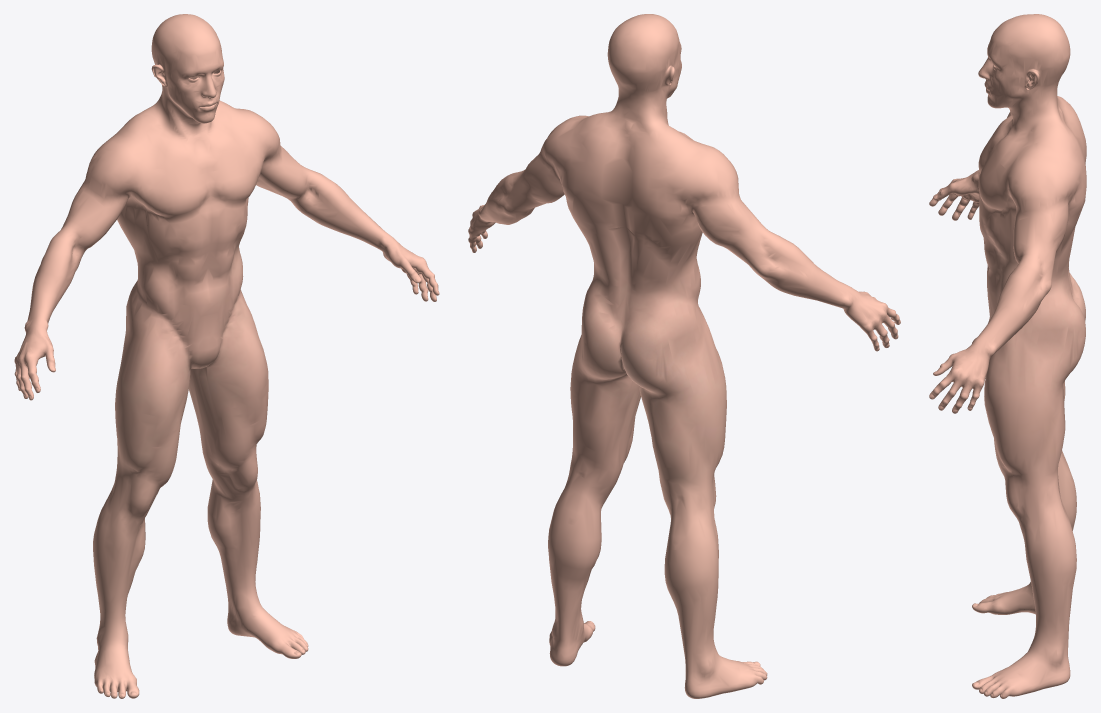
Rendered from male_base (1).glb.
The picture shows the model from 3 angles, left to right: view 1: azimuth 30°, elevation 25°; view 2: azimuth 150°, elevation 25°; view 3: azimuth 270°, elevation 25°; orthographic projection. The views are drawn at different scales.
Parts seen in each view (by area): view 1: simply_coll.001; view 2: simply_coll.001; view 3: simply_coll.001.
Boxes of the visible parts, <box> form: simply_coll.001: <box>14,14,439,698</box>; simply_coll.001: <box>468,14,900,698</box>; simply_coll.001: <box>929,14,1086,698</box>.
Size of the model in its own units: 11.83 by 17.57 by 3.96.
Materials: 1 (1 with a texture image).
